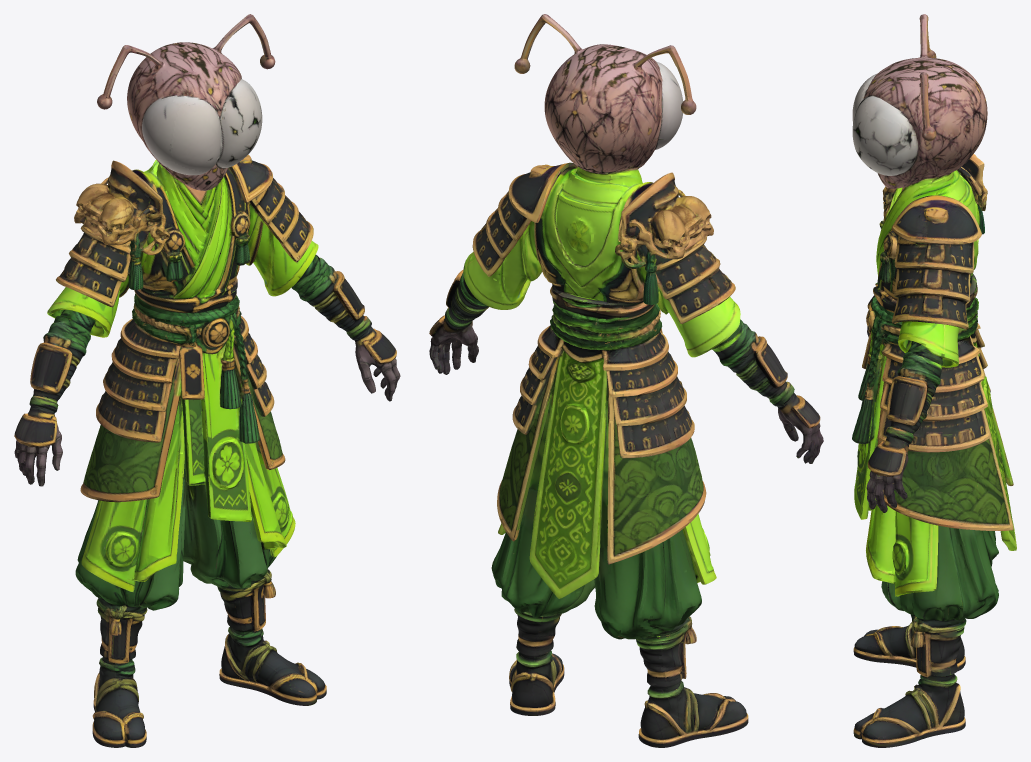
Rendered from rebel_4998_static_source_shogun_v1.glb.
3 renders of one model, left to right at view 1: azimuth 30°, elevation 25°; view 2: azimuth 150°, elevation 25°; view 3: azimuth 270°, elevation 25°, orthographic. The views are drawn at different scales.
Visible parts, largest first — view 1: Mesh_0; view 2: Mesh_0; view 3: Mesh_0.
Boxes of the visible parts, bbox=[...] form: Mesh_0: bbox=[14, 14, 400, 747]; Mesh_0: bbox=[429, 14, 823, 747]; Mesh_0: bbox=[852, 14, 1016, 747].
Size of the model in its own units: 1.12 by 1.9 by 0.4357.
Materials: 1 (1 with a texture image).
